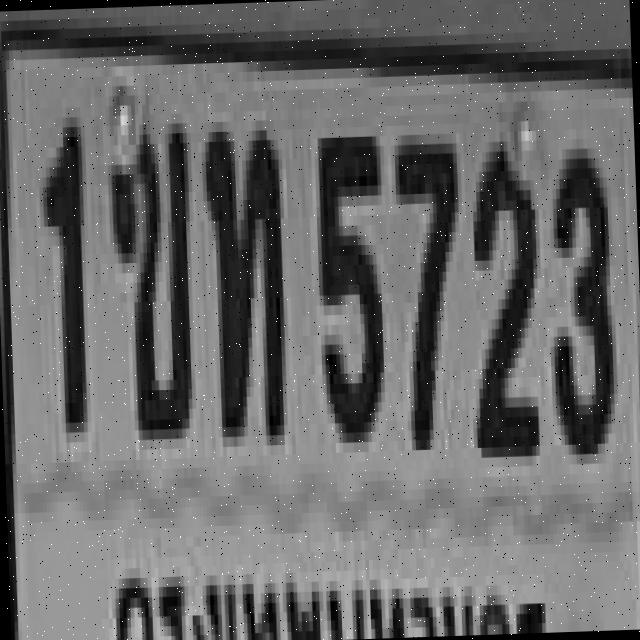1: (36, 107, 87, 423)
11KhorKhai: (106, 114, 192, 430)
2: (463, 130, 539, 448)
3: (542, 138, 612, 445)
32ThorThaHan: (200, 120, 284, 436)
5: (310, 126, 386, 433)
7: (390, 128, 463, 446)
